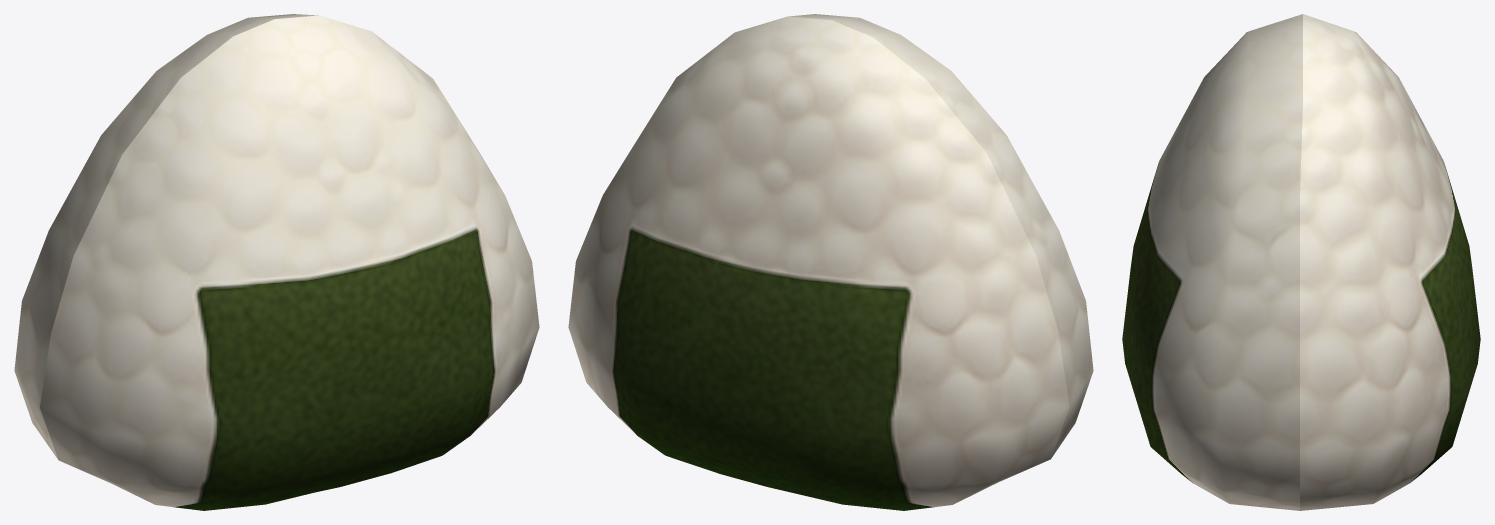
Rendered from Onigiri_1.fbx.
The picture shows the model from 3 angles, left to right: view 1: azimuth 30°, elevation 25°; view 2: azimuth 150°, elevation 25°; view 3: azimuth 270°, elevation 25°; orthographic projection. The views are drawn at different scales.
Visible parts, largest first — view 1: Onigiri_1; view 2: Onigiri_1; view 3: Onigiri_1.
Boxes of the visible parts, x1=… form: Onigiri_1: x1=14, y1=14, x2=539, y2=510; Onigiri_1: x1=568, y1=14, x2=1093, y2=510; Onigiri_1: x1=1122, y1=14, x2=1480, y2=510.
Size of the model in its own units: 41.25 by 37.7 by 28.05.
1 material, 1 textured.
